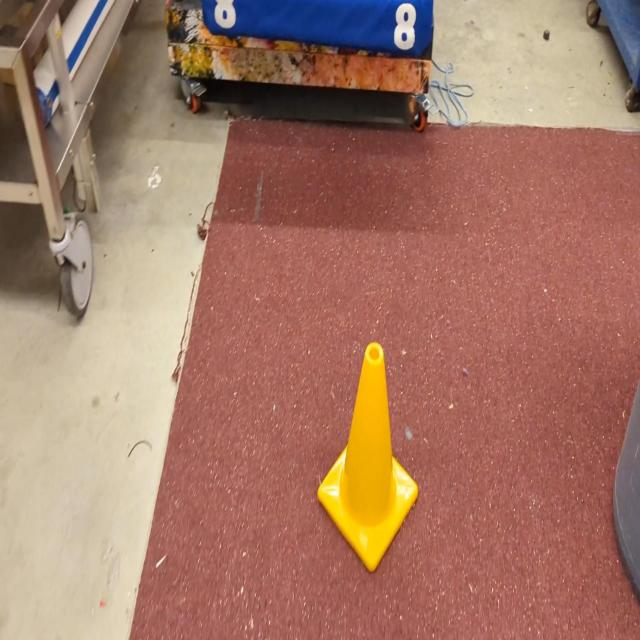frc_cone: (316, 341, 418, 576)
